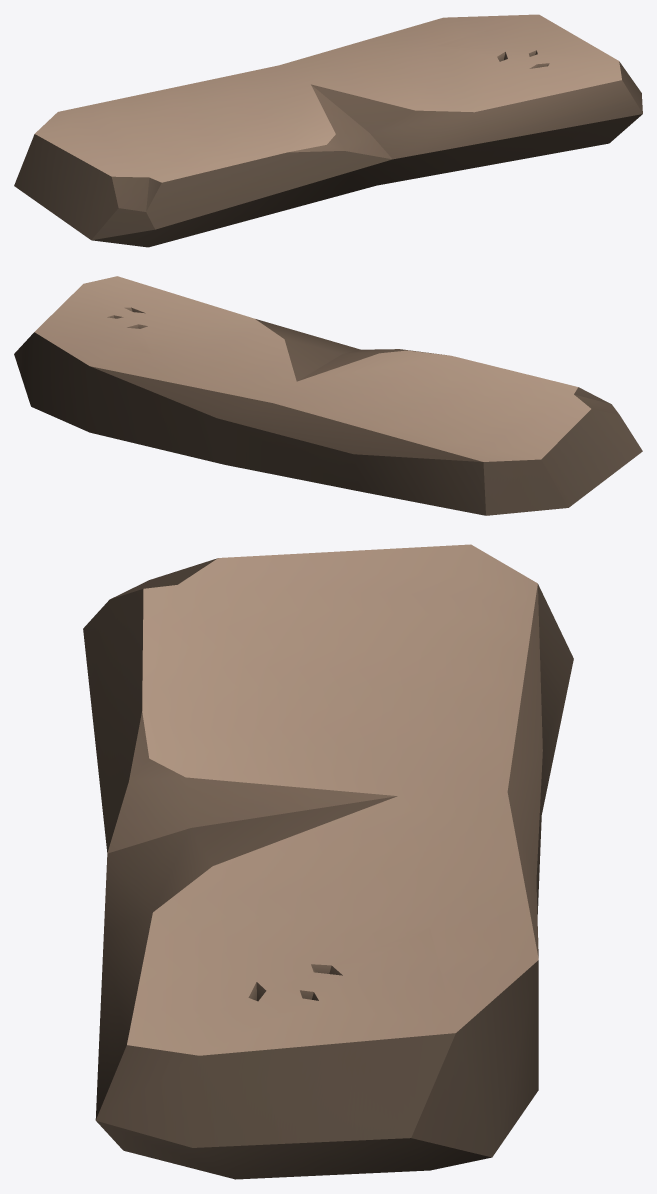
Rendered from Stone_Step_5C.fbx.
The picture shows the model from 3 angles, top to bottom: view 1: azimuth 30°, elevation 25°; view 2: azimuth 150°, elevation 25°; view 3: azimuth 270°, elevation 25°; orthographic projection. The views are drawn at different scales.
Parts seen in each view (by area): view 1: Stone_Step_5C; view 2: Stone_Step_5C; view 3: Stone_Step_5C.
Boxes of the visible parts, x1,y1,x2,y2 form: Stone_Step_5C: (14,14,642,247); Stone_Step_5C: (14,276,642,515); Stone_Step_5C: (83,544,573,1179).
Size of the model in its own units: 2.88 by 0.3189 by 1.09.
